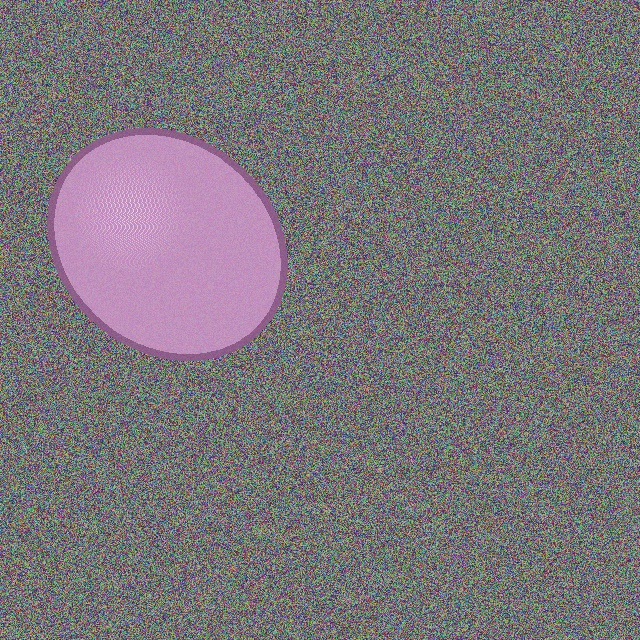lens: (51, 131, 283, 357)
